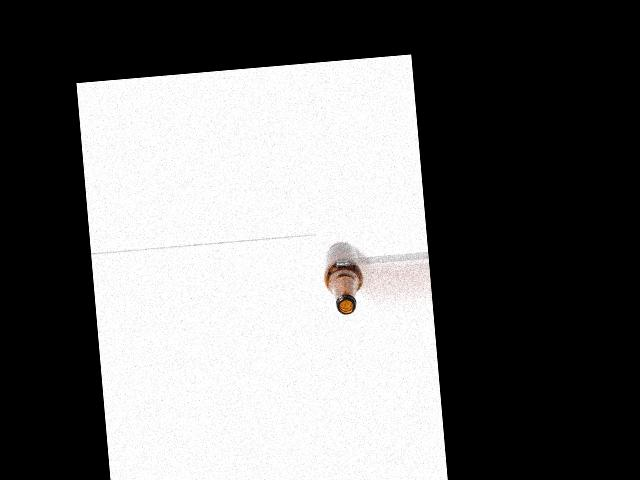beer: (321, 240, 367, 316)
